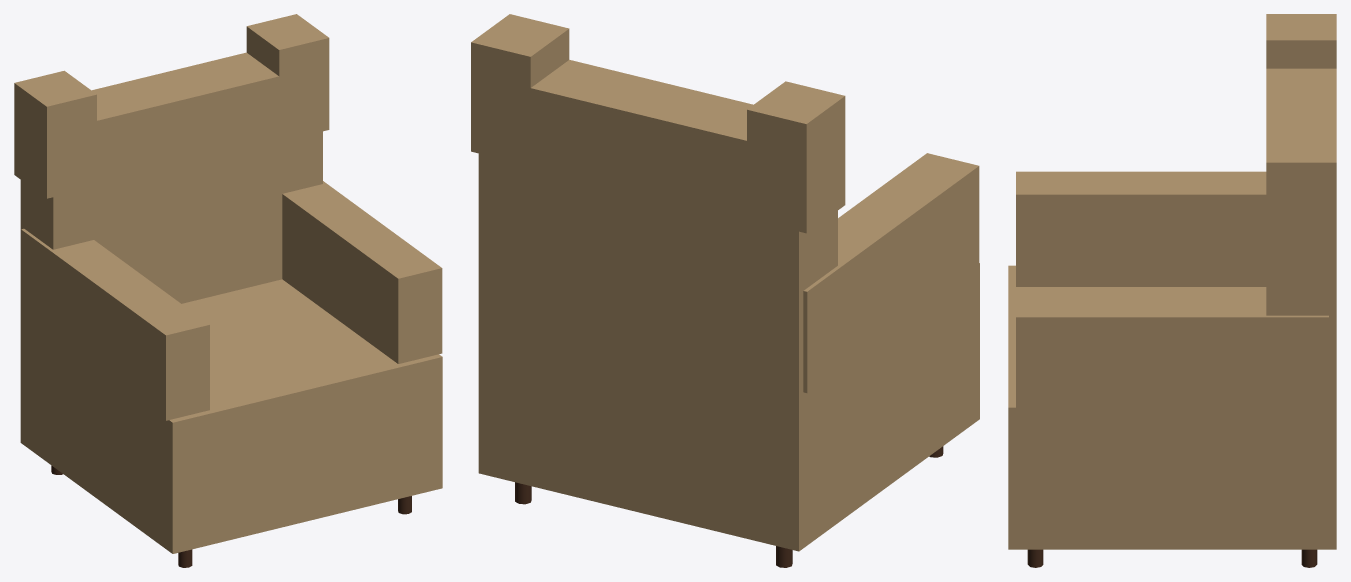
The model's file is armchair.glb.
The picture shows the model from 3 angles, left to right: view 1: azimuth 30°, elevation 25°; view 2: azimuth 150°, elevation 25°; view 3: azimuth 270°, elevation 25°; orthographic projection. The views are drawn at different scales.
Visible parts, largest first — view 1: armchair; view 2: armchair; view 3: armchair.
Part boxes in pixels (box(x1,y1,x2,y2)): armchair: box(14, 14, 442, 567); armchair: box(471, 14, 979, 567); armchair: box(1008, 14, 1336, 567).
Size of the model in its own units: 0.9001 by 1.18 by 0.84.
